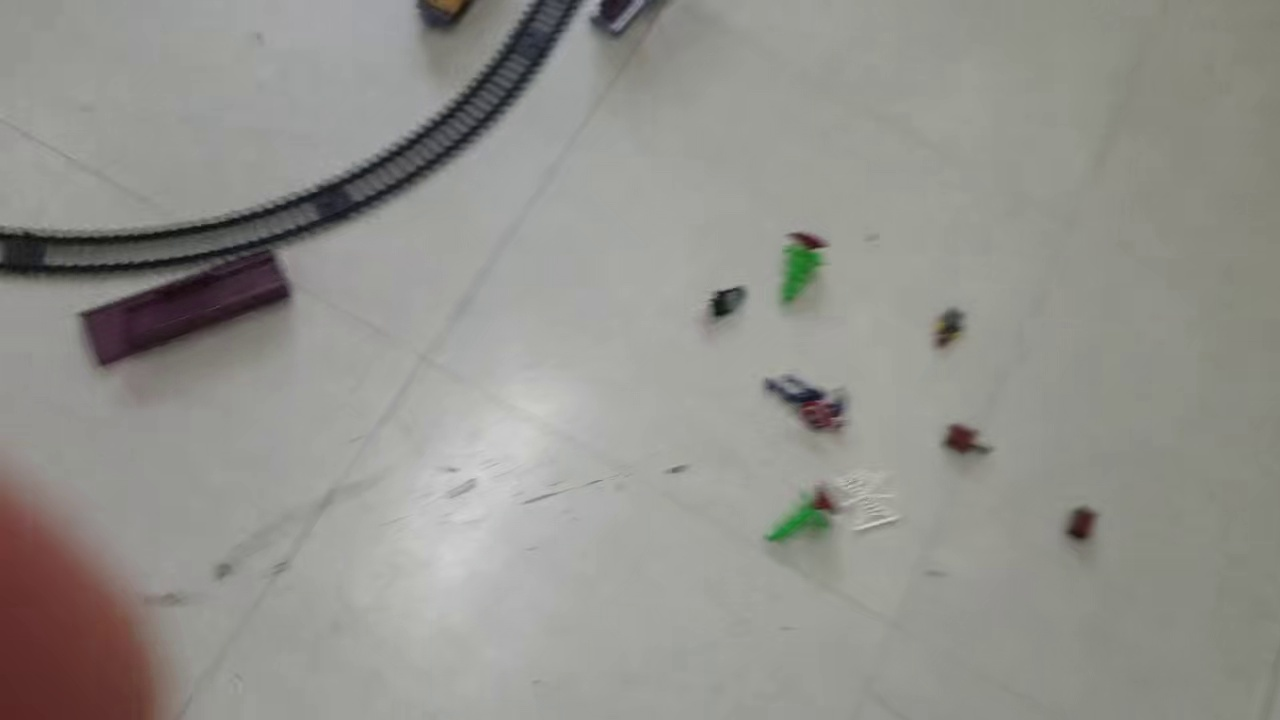box: (938, 423, 996, 461), (1063, 502, 1099, 547)
people: (754, 371, 851, 433), (926, 303, 965, 352), (704, 282, 746, 320)
tree: (763, 478, 845, 547), (770, 228, 830, 313)
web: (821, 464, 901, 536)
